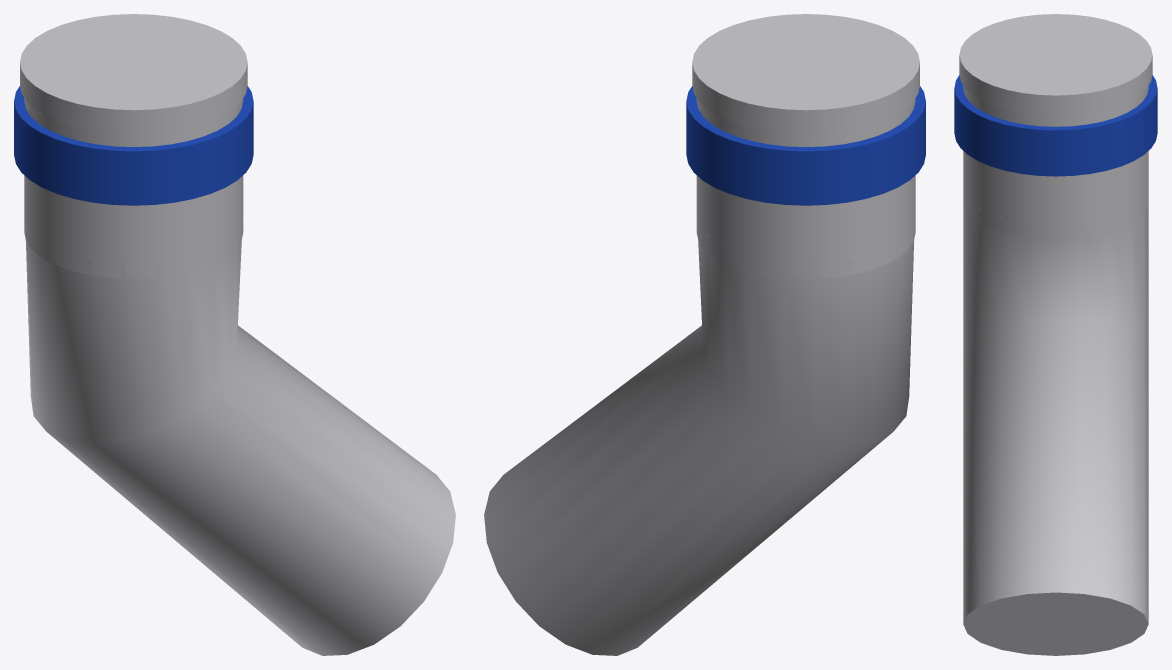
Rendered from fit22_elbow45.glb.
3 views of the same model, side by side, from view 1: azimuth 30°, elevation 25°; view 2: azimuth 150°, elevation 25°; view 3: azimuth 270°, elevation 25° (orthographic). The views are drawn at different scales.
Visible parts, largest first — view 1: тело, раструб тело, раструб кромка, раструб кольцо; view 2: тело, раструб тело, раструб кольцо, раструб кромка; view 3: тело, раструб тело, раструб кольцо, раструб кромка, гладкий конец.
Part boxes in pixels (bbox=[...]): тело: bbox=[25, 221, 455, 655]; раструб тело: bbox=[24, 16, 243, 278]; раструб кромка: bbox=[20, 14, 247, 133]; раструб кольцо: bbox=[14, 86, 253, 205]; тело: bbox=[484, 221, 914, 655]; раструб тело: bbox=[696, 16, 915, 278]; раструб кольцо: bbox=[686, 86, 925, 205]; раструб кромка: bbox=[692, 14, 919, 133]; тело: bbox=[963, 198, 1148, 655]; раструб тело: bbox=[963, 15, 1148, 238]; раструб кольцо: bbox=[954, 75, 1157, 176]; раструб кромка: bbox=[959, 14, 1152, 115]; гладкий конец: bbox=[976, 597, 1124, 651].
Bounding box in the file's own units: 0.0549 × 0.0809 × 0.028.
